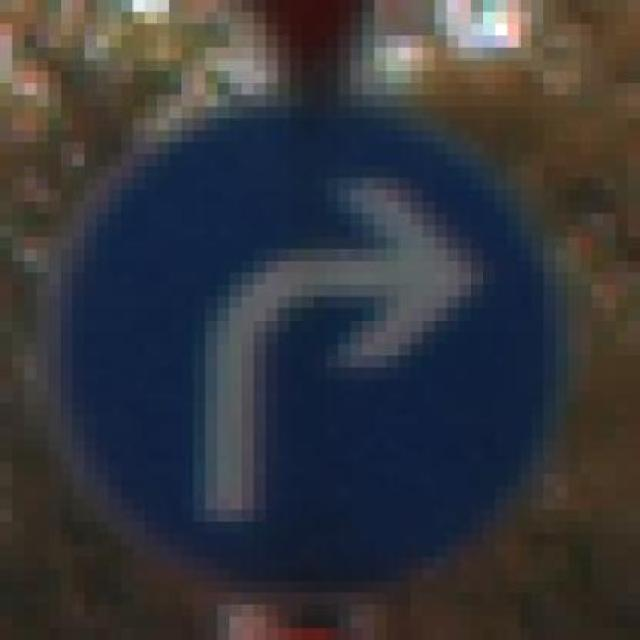Turn right ahead: (48, 59, 568, 593)
